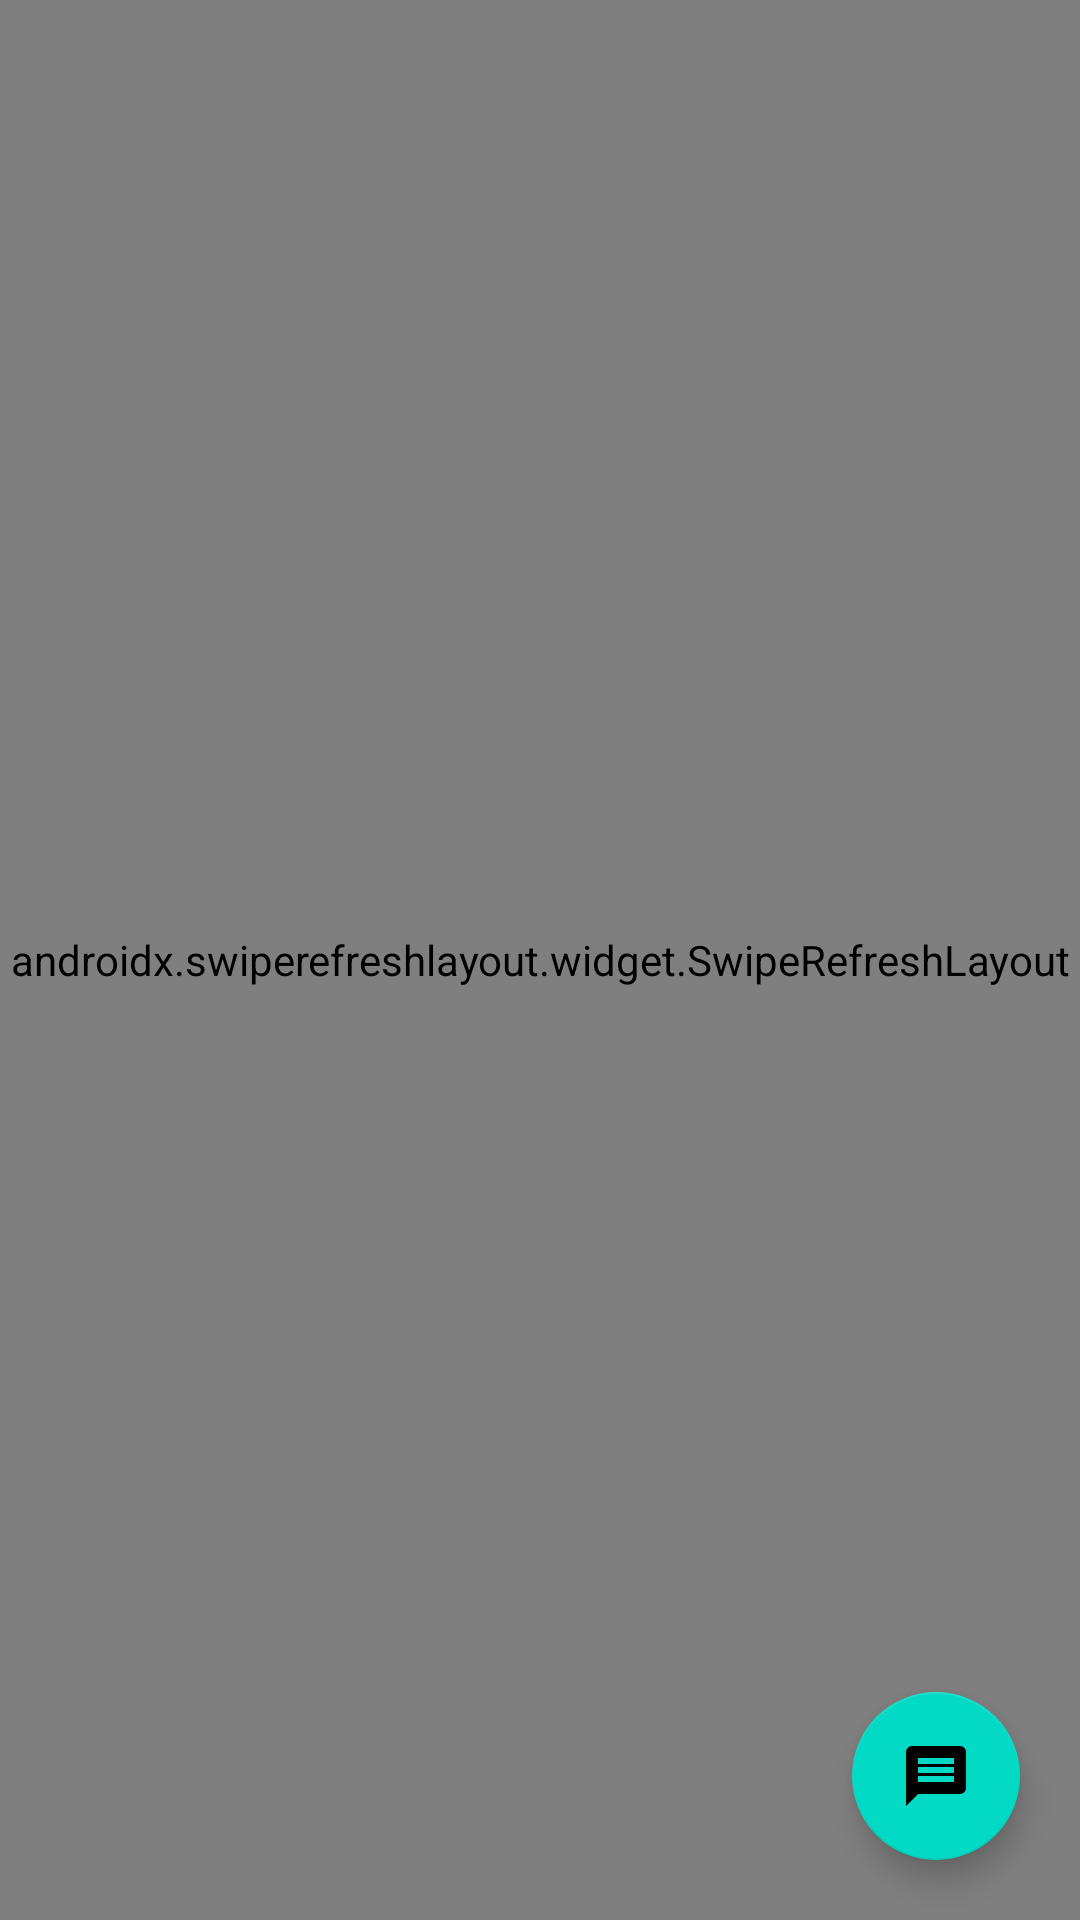

Icon click points for this 1080*1920 phone screenshot, format (x,y):
chat bubble: (936,1776)
